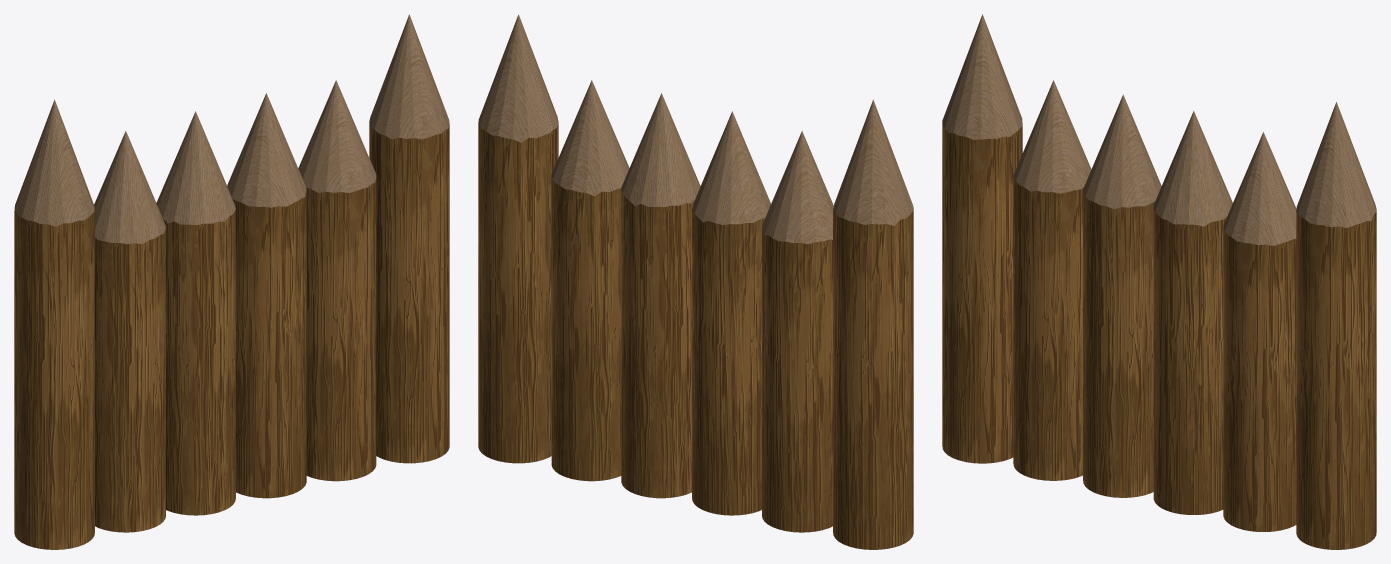
The model's file is LogWallDoor.fbx.
3 renders of one model, left to right at view 1: azimuth 30°, elevation 25°; view 2: azimuth 150°, elevation 25°; view 3: azimuth 330°, elevation 25°, orthographic.
Visible parts, largest first — view 1: LogDoorModel, LogPostModel2, LogPostModel1; view 2: LogDoorModel, LogPostModel2, LogPostModel1; view 3: LogDoorModel, LogPostModel1, LogPostModel2.
Part boxes in pixels (bbox=[...]): LogDoorModel: bbox=[94, 80, 376, 532]; LogPostModel2: bbox=[14, 99, 94, 549]; LogPostModel1: bbox=[369, 14, 449, 463]; LogDoorModel: bbox=[551, 80, 833, 532]; LogPostModel2: bbox=[833, 99, 913, 549]; LogPostModel1: bbox=[478, 14, 558, 463]; LogDoorModel: bbox=[1013, 80, 1296, 531]; LogPostModel1: bbox=[1296, 102, 1376, 549]; LogPostModel2: bbox=[942, 14, 1022, 463].
Bounding box in the file's own units: 1520 × 1484 × 250.
